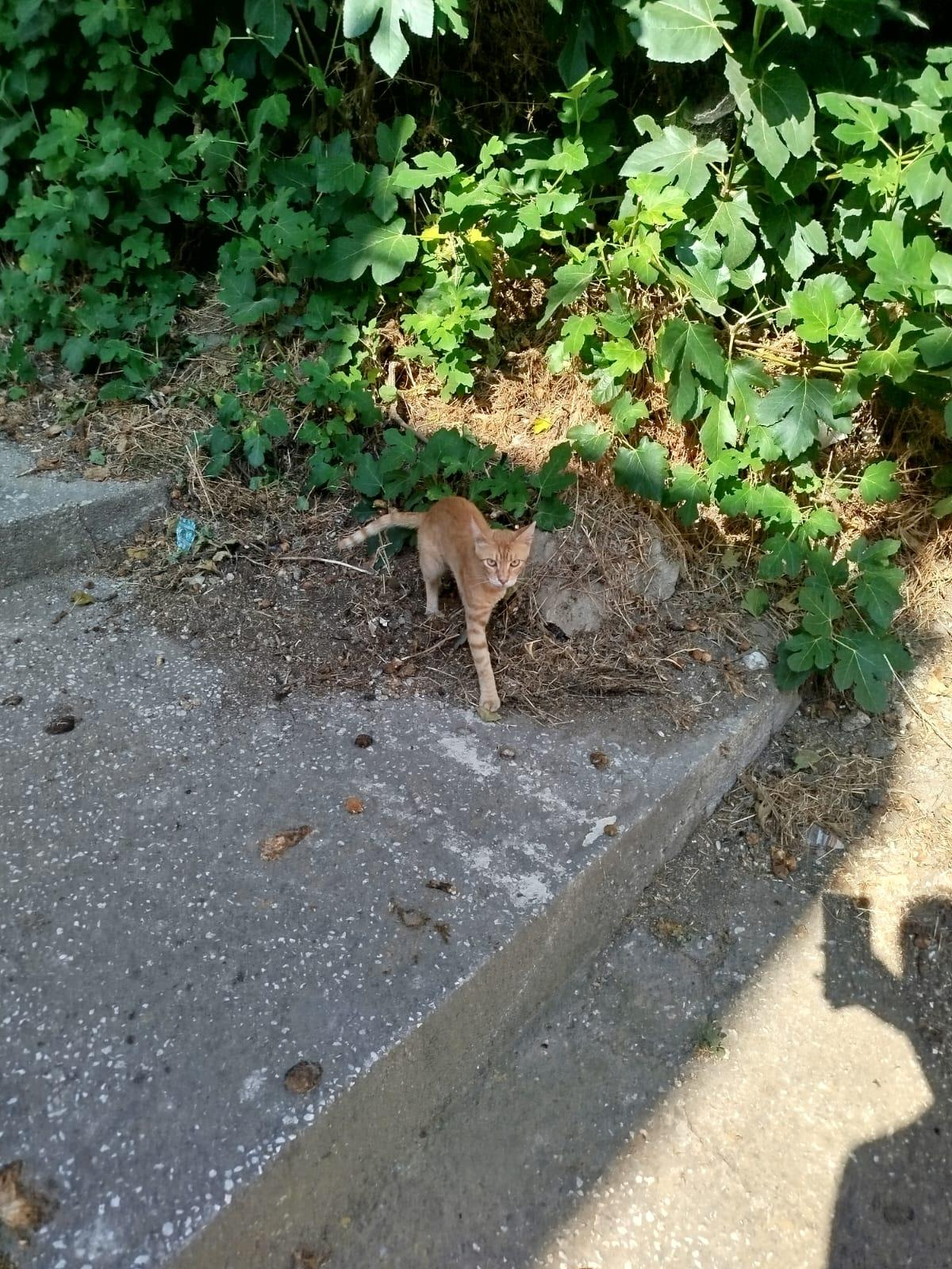macka: (340, 499, 534, 712)
